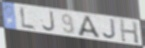9: (61, 13, 76, 35)
A: (77, 14, 103, 40)
H: (119, 19, 140, 45)
J: (102, 18, 118, 41), (41, 11, 57, 33)
L: (20, 6, 36, 31)
